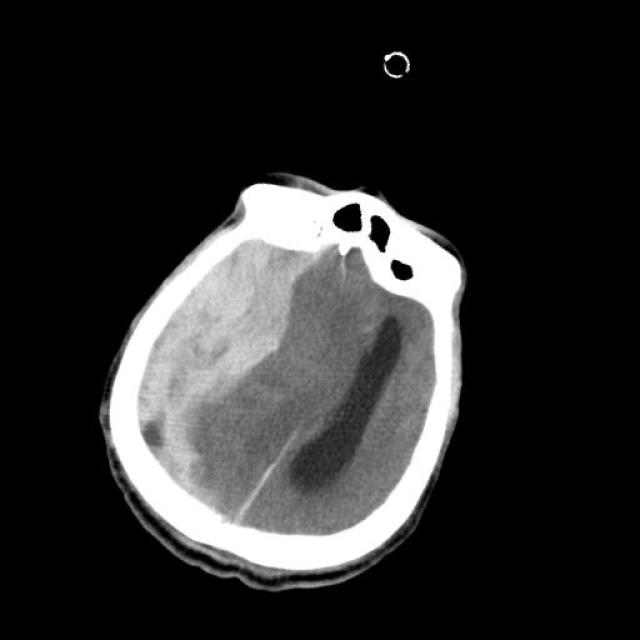Subdural: (102, 198, 353, 536)
